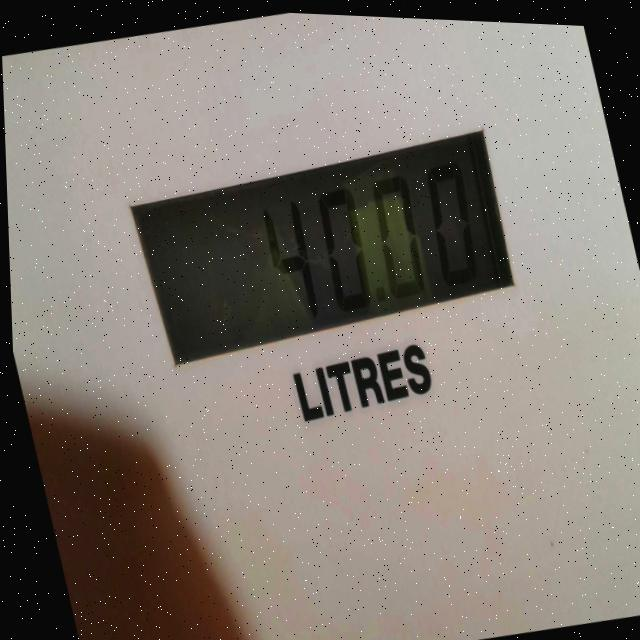.: (372, 280, 383, 296)
0: (365, 170, 430, 295), (416, 153, 481, 278), (314, 190, 372, 307)
4: (260, 201, 324, 322)
